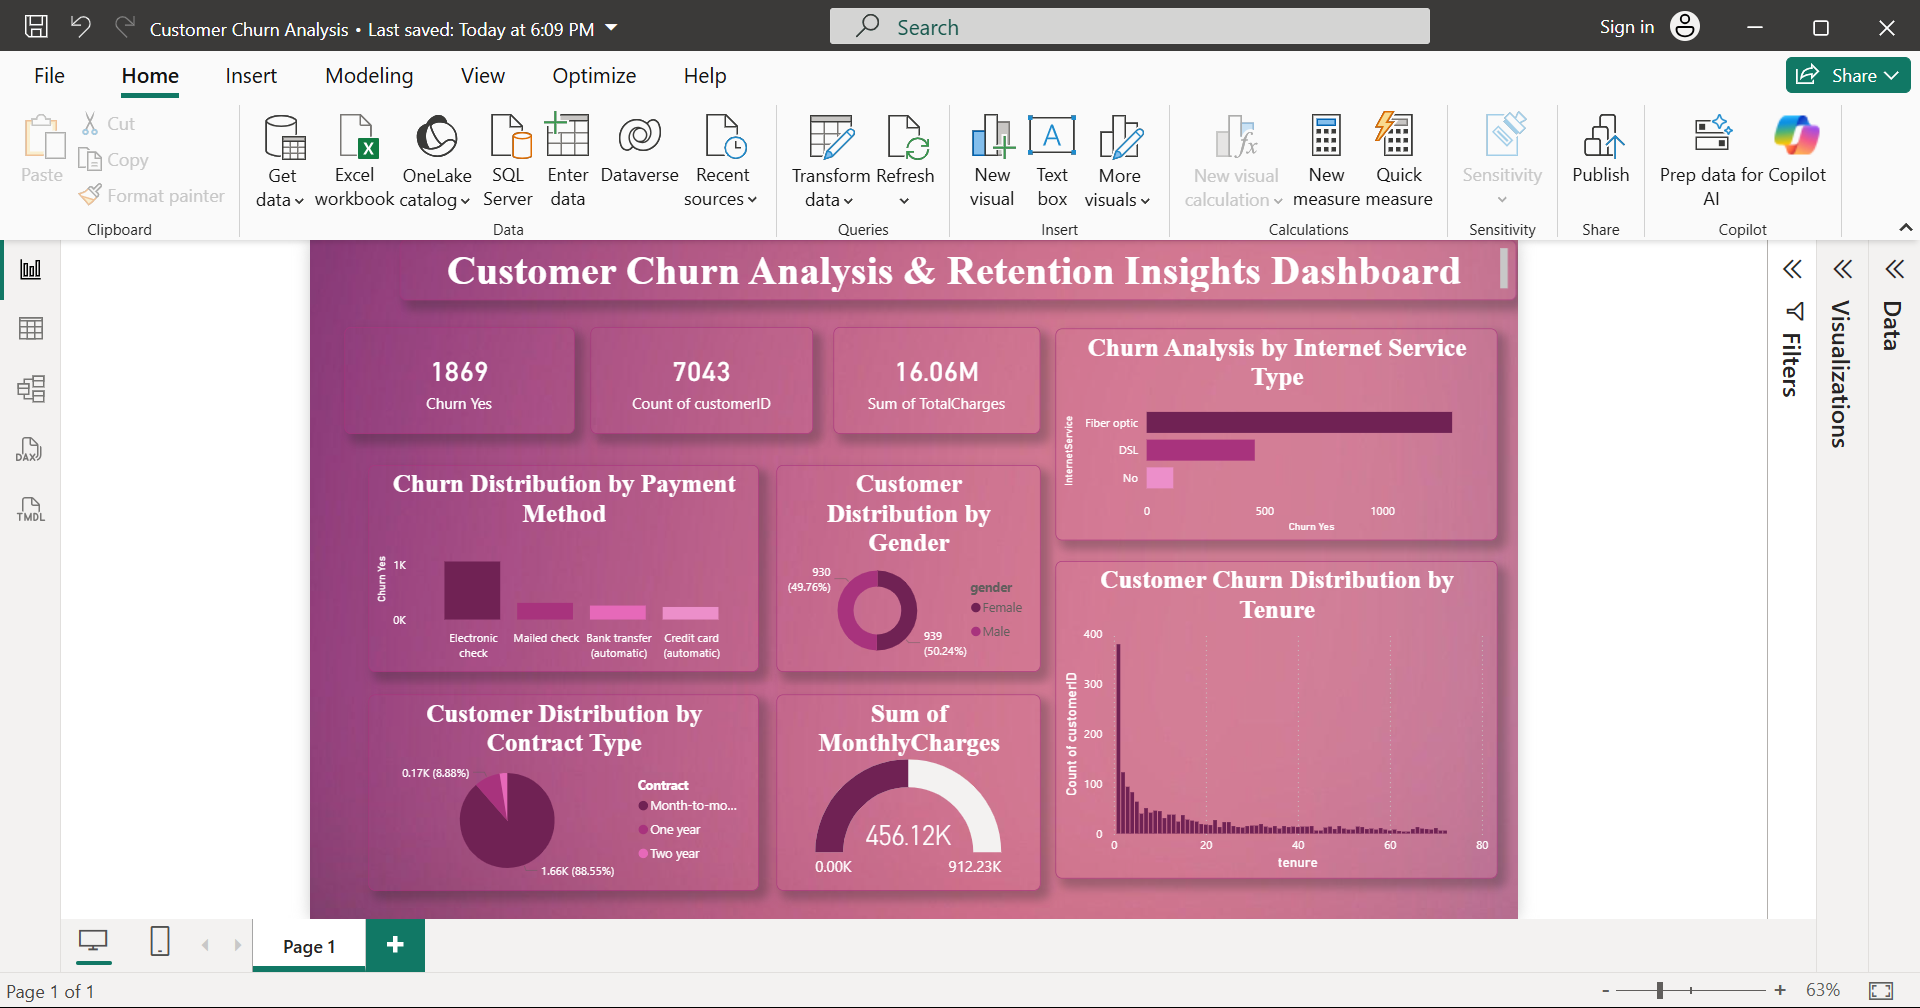

What the dashboard file says about the page in this screenshot:
{"tool":"powerbi","page":{"name":"Page 1","canvas":[1280,720],"ordinal":0},"visuals":[{"type":"card","title":"Total Customers","fields":{"Values":["CountNonNull(WA_Fn-UseC_-Telco-Customer-Churn.customerID)"]},"box":[16,64,272,208],"z":0},{"type":"card","title":"Total Customers Churned","fields":{"Values":["Count(WA_Fn-UseC_-Telco-Customer-Churn.customerID)"]},"box":[10,290,280,280],"z":1000},{"type":"pieChart","title":" Customer Distribution by Gender","fields":{"Category":["WA_Fn-UseC_-Telco-Customer-Churn.gender"],"Y":["CountNonNull(WA_Fn-UseC_-Telco-Customer-Churn.customerID)"]},"box":[10,570,280,150],"z":2000},{"type":"barChart","title":" Customer Distribution by Contract Type","fields":{"Category":["WA_Fn-UseC_-Telco-Customer-Churn.Contract"],"Y":["CountNonNull(WA_Fn-UseC_-Telco-Customer-Churn.customerID)"]},"box":[304,64,272,208],"z":3000},{"type":"columnChart","title":" Customer Churn Distribution by Tenure","fields":{"Category":["WA_Fn-UseC_-Telco-Customer-Churn.tenure"],"Y":["CountNonNull(WA_Fn-UseC_-Telco-Customer-Churn.customerID)"]},"box":[300,290,280,280],"z":4000},{"type":"barChart","title":" Customer Churn vs  ","fields":{"Category":["WA_Fn-UseC_-Telco-Customer-Churn.Contract"],"Y":["WA_Fn-UseC_-Telco-Customer-Churn.Churn Yes"]},"box":[576,64,352,144],"z":5000},{"type":"barChart","title":" Retention by Contract Type","fields":{"Category":["WA_Fn-UseC_-Telco-Customer-Churn.Contract"],"Y":["WA_Fn-UseC_-Telco-Customer-Churn.Churn No"]},"box":[928,64,352,144],"z":6000},{"type":"lineChart","title":" Churn Comparison Across Gender","fields":{"Y":["WA_Fn-UseC_-Telco-Customer-Churn.Churn Yes"],"Category":["WA_Fn-UseC_-Telco-Customer-Churn.gender"]},"box":[300,570,280,150],"z":7000},{"type":"barChart","title":" Churn Analysis by Internet Service Type","fields":{"Category":["WA_Fn-UseC_-Telco-Customer-Churn.InternetService"],"Y":["WA_Fn-UseC_-Telco-Customer-Churn.Churn Yes"]},"box":[576,208,336,224],"z":8000},{"type":"barChart","title":" Churn Distribution by Payment Method","fields":{"Category":["WA_Fn-UseC_-Telco-Customer-Churn.PaymentMethod"],"Y":["WA_Fn-UseC_-Telco-Customer-Churn.Churn Yes"]},"box":[576,432,336,288],"z":9000},{"type":"clusteredColumnChart","title":" Impact of Monthly Charges on Customer Churn","fields":{"Category":["WA_Fn-UseC_-Telco-Customer-Churn.MonthlyCharges"],"Y":["WA_Fn-UseC_-Telco-Customer-Churn.Churn Yes"]},"box":[912,208,368,224],"z":10000},{"type":"pivotTable","title":" Detailed Churn Breakdown by Contract and Gender","fields":{"Rows":["WA_Fn-UseC_-Telco-Customer-Churn.Contract"],"Columns":["WA_Fn-UseC_-Telco-Customer-Churn.gender"],"Values":["WA_Fn-UseC_-Telco-Customer-Churn.Churn Yes"]},"box":[912,432,368,288],"z":11000},{"type":"textbox","box":[96,0,1184,64],"z":11001}]}

Visuals, with their boxes in screenshot pixels (x1, y1, x2, y2):
"Total Customers" card: (left=311, top=45, right=674, bottom=323)
"Total Customers Churned" card: (left=303, top=347, right=677, bottom=721)
" Customer Distribution by Gender" pieChart: (left=303, top=721, right=677, bottom=921)
" Customer Distribution by Contract Type" barChart: (left=696, top=45, right=1059, bottom=323)
" Customer Churn Distribution by Tenure" columnChart: (left=690, top=347, right=1064, bottom=721)
" Customer Churn vs  " barChart: (left=1059, top=45, right=1528, bottom=238)
" Retention by Contract Type" barChart: (left=1528, top=45, right=1919, bottom=238)
" Churn Comparison Across Gender" lineChart: (left=690, top=721, right=1064, bottom=921)
" Churn Analysis by Internet Service Type" barChart: (left=1059, top=238, right=1507, bottom=536)
" Churn Distribution by Payment Method" barChart: (left=1059, top=536, right=1507, bottom=921)
" Impact of Monthly Charges on Customer Churn" clusteredColumnChart: (left=1507, top=238, right=1919, bottom=536)
" Detailed Churn Breakdown by Contract and Gender" pivotTable: (left=1507, top=536, right=1919, bottom=921)
textbox: (left=418, top=0, right=1919, bottom=45)
